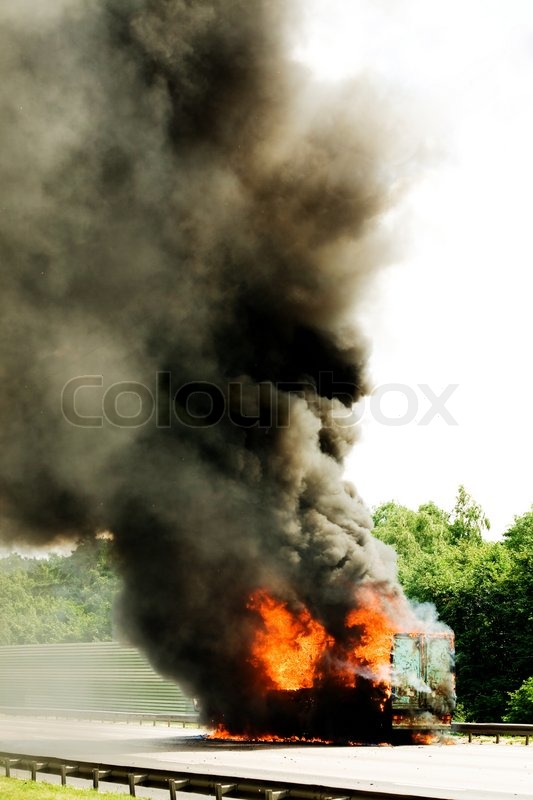fire: (214, 565, 451, 747)
